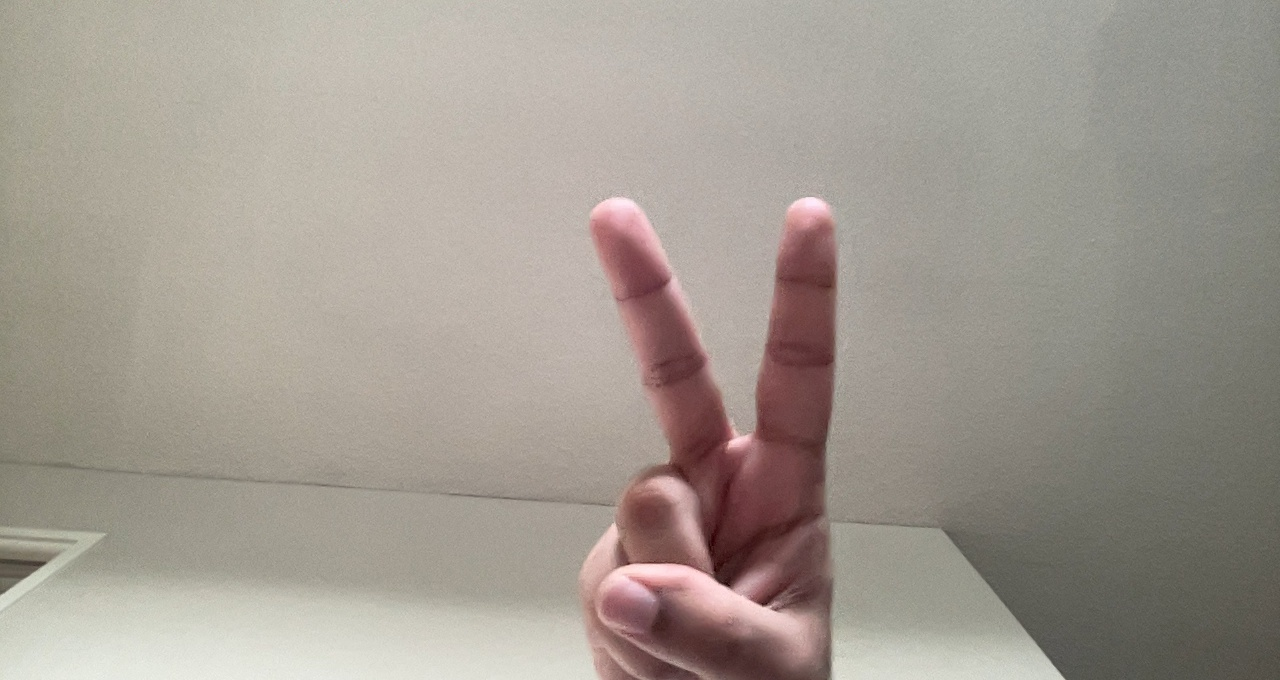peace sign: (556, 186, 857, 670)
